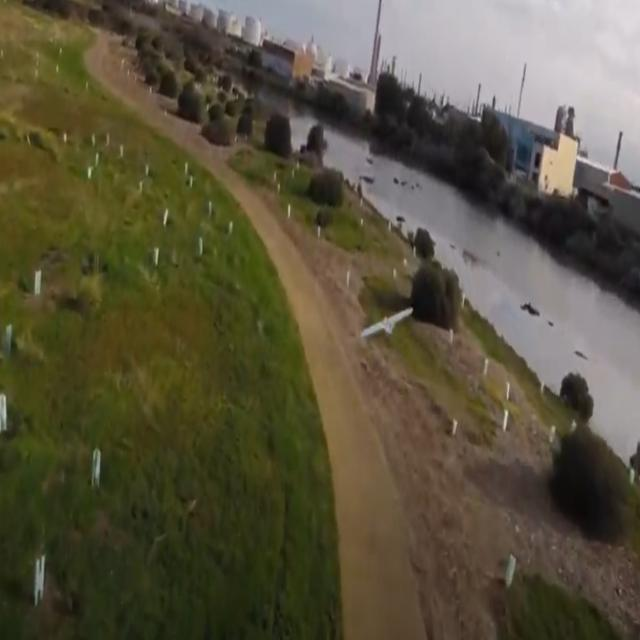iha: (358, 301, 413, 345)
